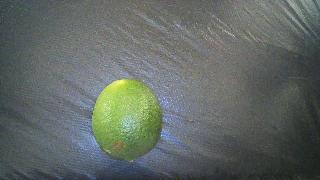DESECHO: (92, 79, 163, 162)
